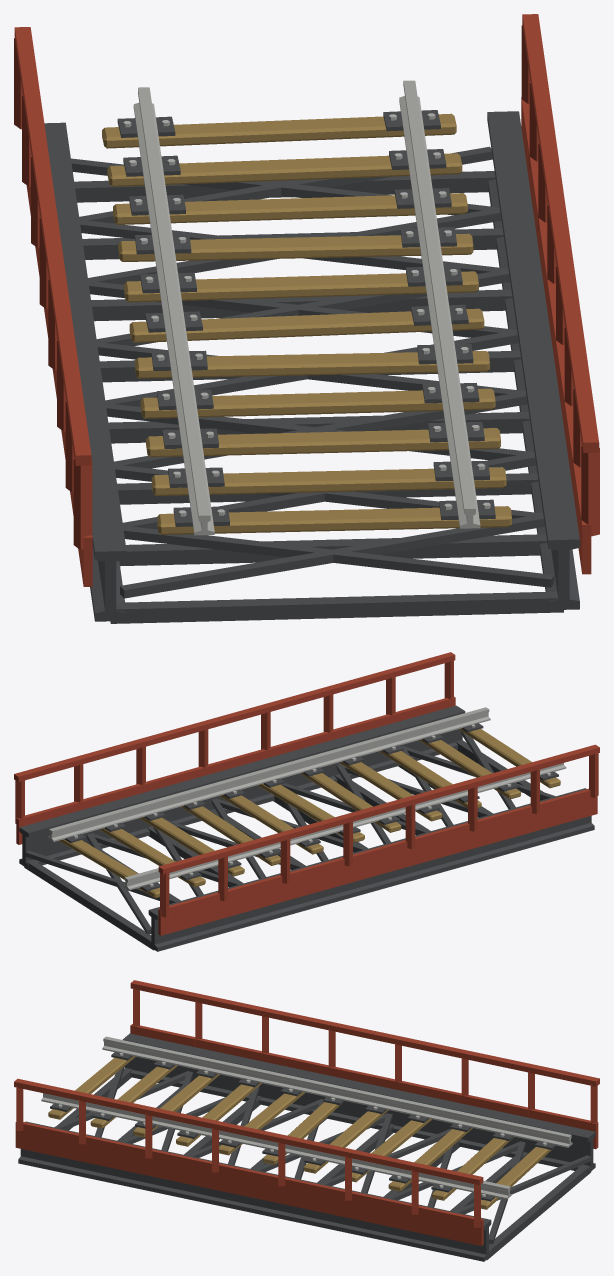
File: elevated-half-diagonal-rail-ne.glb
The picture shows the model from 3 angles, top to bottom: view 1: azimuth 30°, elevation 25°; view 2: azimuth 150°, elevation 25°; view 3: azimuth 270°, elevation 25°; orthographic projection. The views are drawn at different scales.
Visible parts, largest first — view 1: body; view 2: body; view 3: body.
Part boxes in pixels (box(x1,y1,x2,y2)): body: box(14, 14, 599, 623); body: box(14, 652, 599, 951); body: box(14, 980, 599, 1261).
Size of the model in its own units: 4.07 by 0.825 by 5.03.
